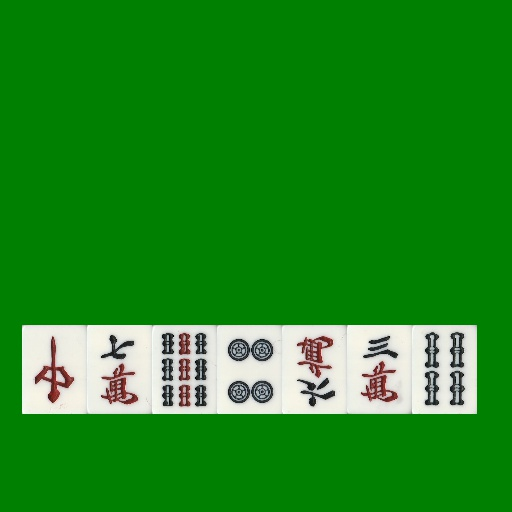3m: (347, 325, 412, 414)
4p: (217, 325, 282, 414)
4s: (412, 325, 477, 414)
6m: (282, 325, 347, 414)
7m: (87, 325, 152, 414)
9s: (152, 325, 217, 414)
tyun: (22, 325, 87, 414)
